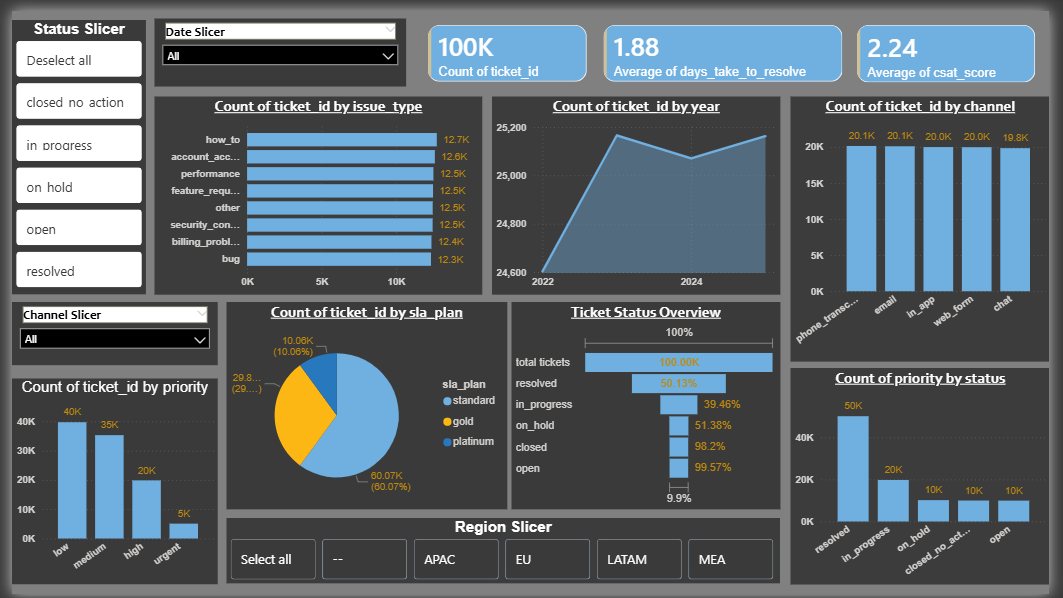

The page's visual inventory and layout, read from the dashboard file:
{"tool":"powerbi","page":{"name":"Page 1","canvas":[1280,720],"ordinal":0},"visuals":[{"type":"cardVisual","fields":{"Data":["CountNonNull(Sheet1.ticket_id)"]},"box":[496.3,0,230.6,105],"z":0},{"type":"advancedSlicerVisual","title":"Status Slicer","fields":{"Values":["Sheet1.status"]},"box":[0,11.3,165.2,338.4],"z":1000},{"type":"areaChart","fields":{"Category":["Sheet1.year"],"Y":["CountNonNull(Sheet1.ticket_id)"]},"box":[592.6,105.2,356.2,244.5],"z":2000},{"type":"cardVisual","fields":{"Data":["Avg(Sheet1.csat_score)"]},"box":[1026.6,0,254.2,105.2],"z":3000},{"type":"cardVisual","fields":{"Data":["Avg(Sheet1.days_take_to_resolve)"]},"box":[712.6,0,329.3,105],"z":4000},{"type":"clusteredBarChart","fields":{"Category":["Sheet1.issue_type"],"Y":["CountNonNull(Sheet1.ticket_id)"]},"box":[176.5,105.2,404.8,244.5],"z":5000},{"type":"columnChart","fields":{"Y":["CountNonNull(Sheet1.ticket_id)"],"Category":["Sheet1.priority"]},"box":[0,453.4,254.2,254.2],"z":6000},{"type":"columnChart","fields":{"Category":["Sheet1.status"],"Y":["CountNonNull(Sheet1.priority)"]},"box":[960.2,440.4,320.6,267.2],"z":7000},{"type":"columnChart","fields":{"Category":["Sheet1.channel"],"Y":["CountNonNull(Sheet1.ticket_id)"]},"box":[960.2,105.2,320.6,327.1],"z":8000},{"type":"slicer","fields":{"Values":["Sheet1.channel"]},"box":[0,359.5,254.2,77.7],"z":9000},{"type":"pieChart","fields":{"Category":["Sheet1.sla_plan"],"Y":["CountNonNull(Sheet1.ticket_id)"]},"box":[265.6,359.5,346.5,255.8],"z":10000},{"type":"funnel","title":"Ticket Status Overview","fields":{"Y":["measures (2).total ticket","Sheet1.resolve_ticket","Sheet1.pending ticket","measures (2).on_hold tckt","measures (2).closed tckt","measures (2).open tckt"]},"box":[616.9,359.5,331.9,255.8],"z":11000},{"type":"slicer","fields":{"Values":["Sheet1.year","Sheet1.Month Name","Sheet1.Day","Sheet1.Day name"]},"box":[176.5,9.7,310.9,84.2],"z":12000},{"type":"advancedSlicerVisual","title":"Region Slicer","fields":{"Values":["Sheet1.region"]},"box":[265.6,626.6,683.3,81],"z":13000}]}

Visuals, with their boxes in screenshot pixels (x1, y1, x2, y2), scaled from the page's 1280x720 canvas onto the 1063x598 screenshot:
cardVisual - CountNonNull(Sheet1.ticket_id): [412, 0, 604, 87]
"Status Slicer" advancedSlicerVisual: [0, 9, 137, 290]
areaChart - Sheet1.year x CountNonNull(Sheet1.ticket_id): [492, 87, 788, 290]
cardVisual - Avg(Sheet1.csat_score): [853, 0, 1062, 87]
cardVisual - Avg(Sheet1.days_take_to_resolve): [592, 0, 865, 87]
clusteredBarChart - Sheet1.issue_type x CountNonNull(Sheet1.ticket_id): [147, 87, 483, 290]
columnChart - CountNonNull(Sheet1.ticket_id) x Sheet1.priority: [0, 377, 211, 588]
columnChart - Sheet1.status x CountNonNull(Sheet1.priority): [797, 366, 1062, 588]
columnChart - Sheet1.channel x CountNonNull(Sheet1.ticket_id): [797, 87, 1062, 359]
slicer - Sheet1.channel: [0, 299, 211, 363]
pieChart - Sheet1.sla_plan x CountNonNull(Sheet1.ticket_id): [221, 299, 508, 511]
"Ticket Status Overview" funnel: [512, 299, 788, 511]
slicer - Sheet1.year x Sheet1.Month Name: [147, 8, 405, 78]
"Region Slicer" advancedSlicerVisual: [221, 520, 788, 588]
